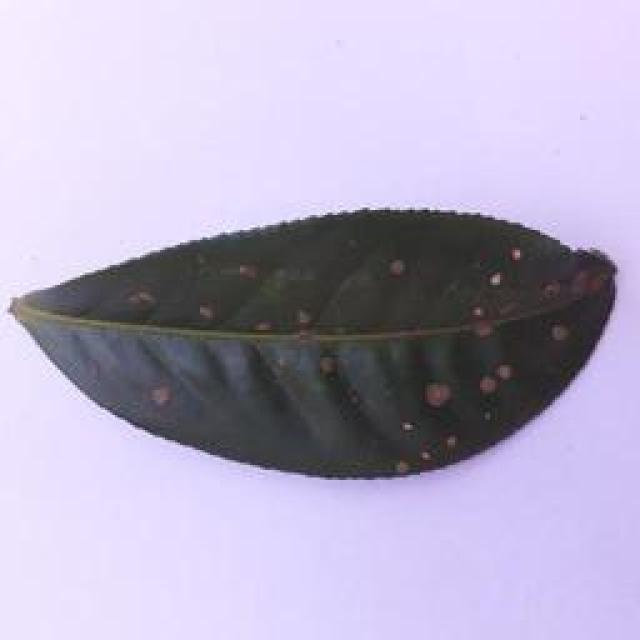Algal Leaf Spot: (7, 200, 640, 485)
